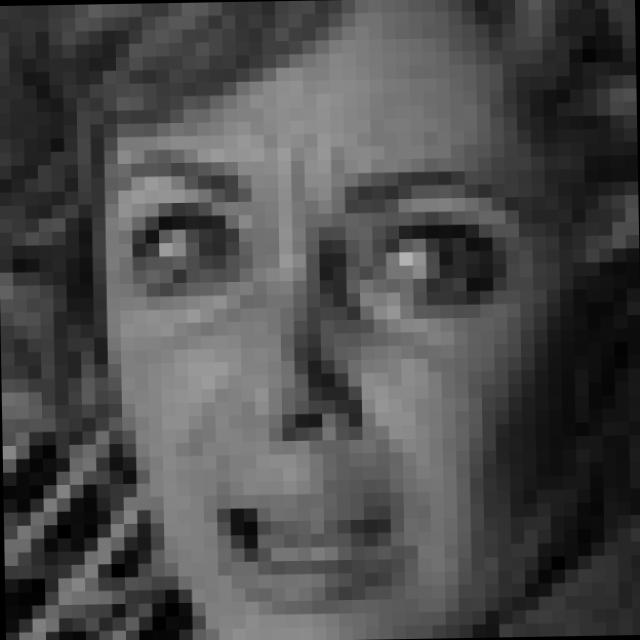fear: (115, 147, 539, 624)
